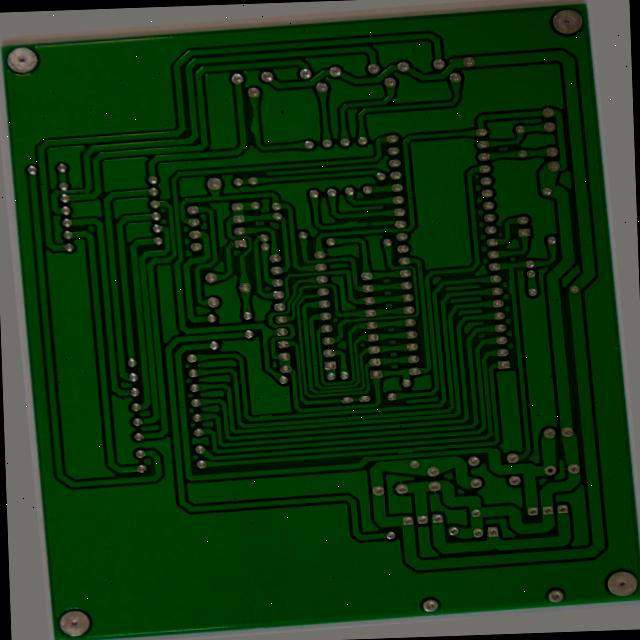spur: (255, 102, 274, 131), (389, 455, 414, 466), (346, 213, 371, 223), (246, 411, 264, 421), (520, 284, 528, 302)
